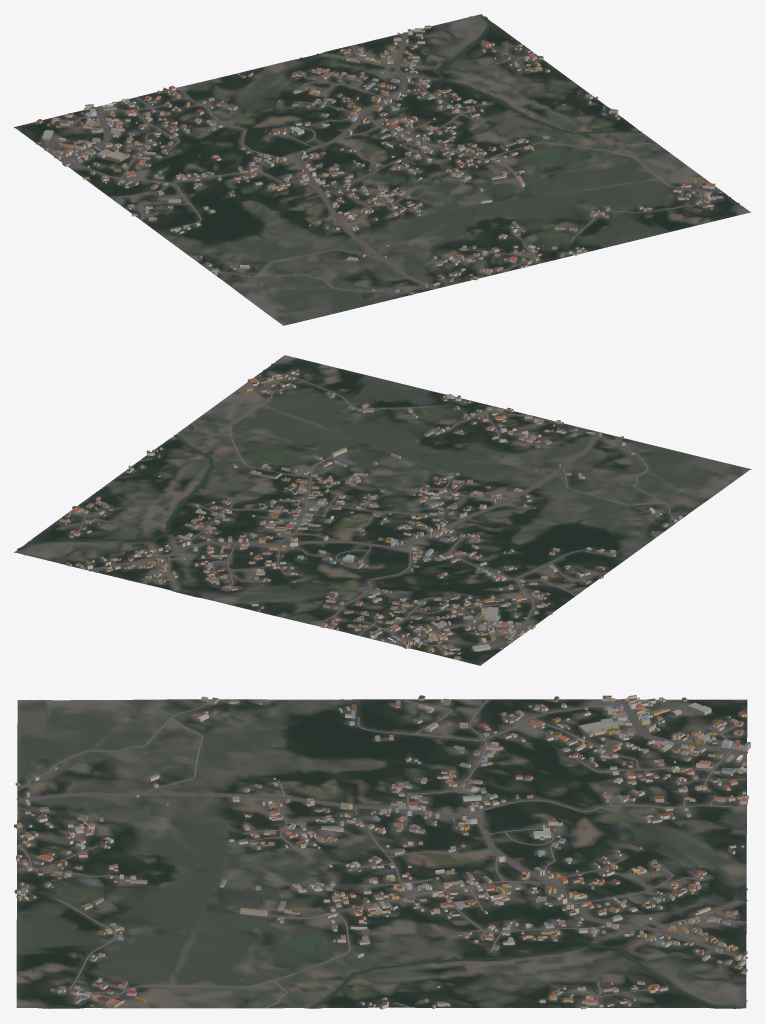
3 renders of one model, top to bottom at view 1: azimuth 30°, elevation 25°; view 2: azimuth 150°, elevation 25°; view 3: azimuth 270°, elevation 25°, orthographic. The views are drawn at different scales.
Visible parts, largest first — view 1: ground, buildings, roads, water; view 2: ground, buildings, roads, water; view 3: ground, buildings, roads, water.
Part boxes in pixels (x1,y1,x2,y2): ground: (14,14,750,325); buildings: (36,25,722,295); roads: (50,16,702,293); water: (299,16,739,242); ground: (14,355,750,665); buildings: (59,369,682,659); roads: (23,376,678,651); water: (17,363,443,596); ground: (16,699,747,1008); buildings: (14,695,750,1009); roads: (16,699,748,1008); water: (47,888,747,1008).
Size of the model in its own units: 1413 by 17.8 by 1416.
